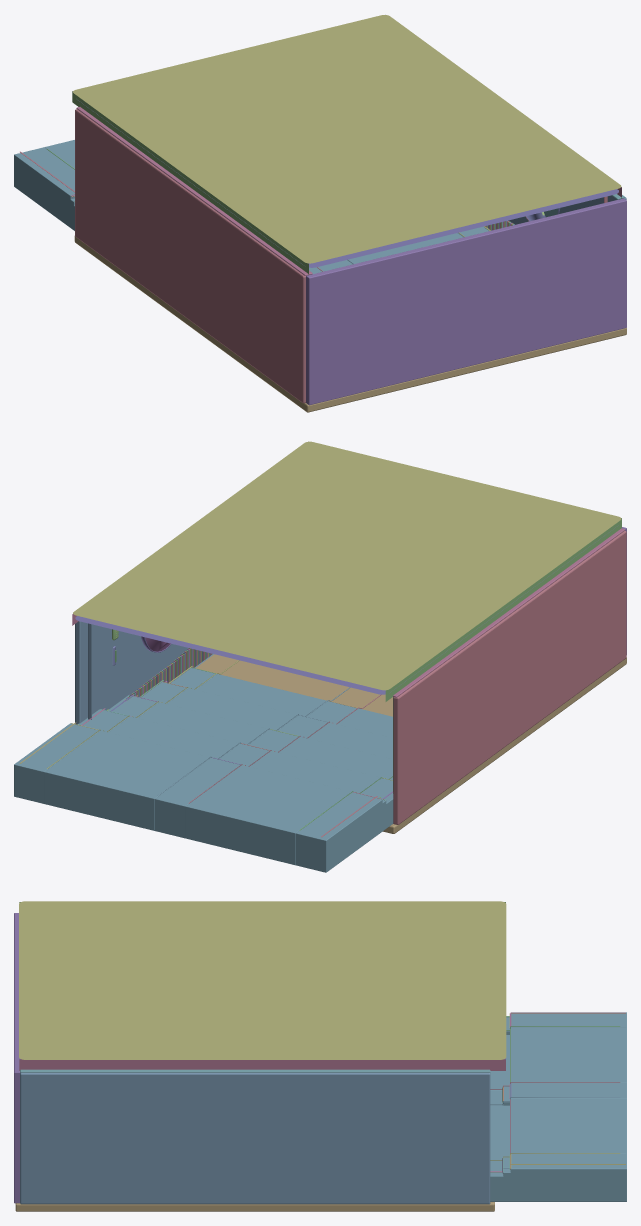
The model's file is theatre-upgraded.glb.
3 renders of one model, top to bottom at view 1: azimuth 30°, elevation 25°; view 2: azimuth 150°, elevation 25°; view 3: azimuth 270°, elevation 25°, orthographic. The views are drawn at different scales.
Parts seen in each view (by area): view 1: theatre | Static geometry; view 2: theatre | Static geometry; view 3: theatre | Static geometry.
Boxes of the visible parts, bbox=[...] form: theatre | Static geometry: bbox=[14, 15, 626, 412]; theatre | Static geometry: bbox=[14, 441, 626, 872]; theatre | Static geometry: bbox=[14, 901, 626, 1211].
Bounding box in the file's own units: 17 × 7.38 × 27.11.
